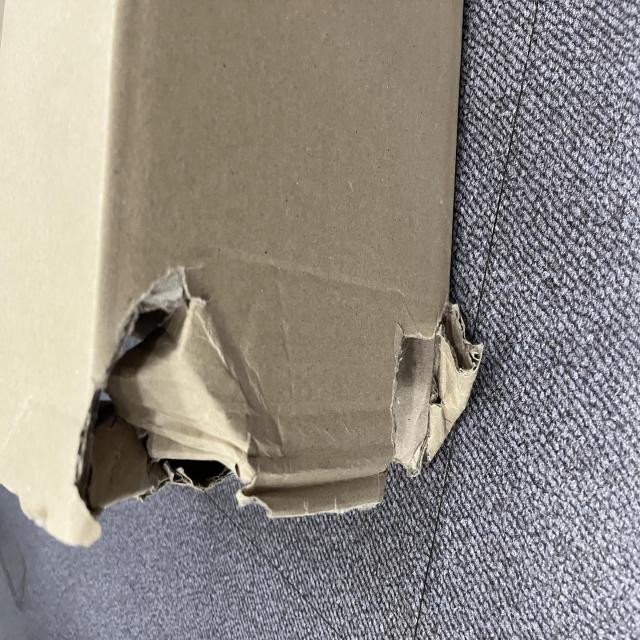damaged: (90, 89, 277, 333), (101, 503, 246, 618)
